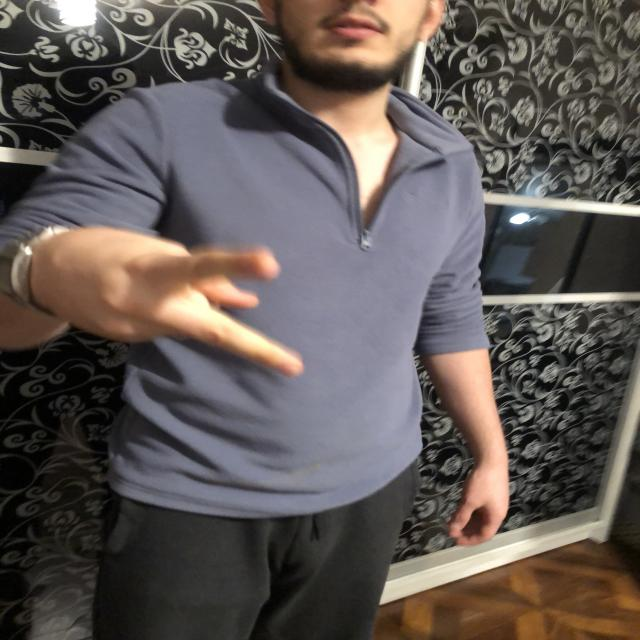scissors: (55, 236, 303, 383)
